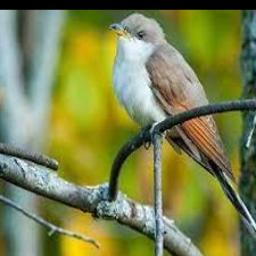Cuckoo: (110, 12, 256, 256)
